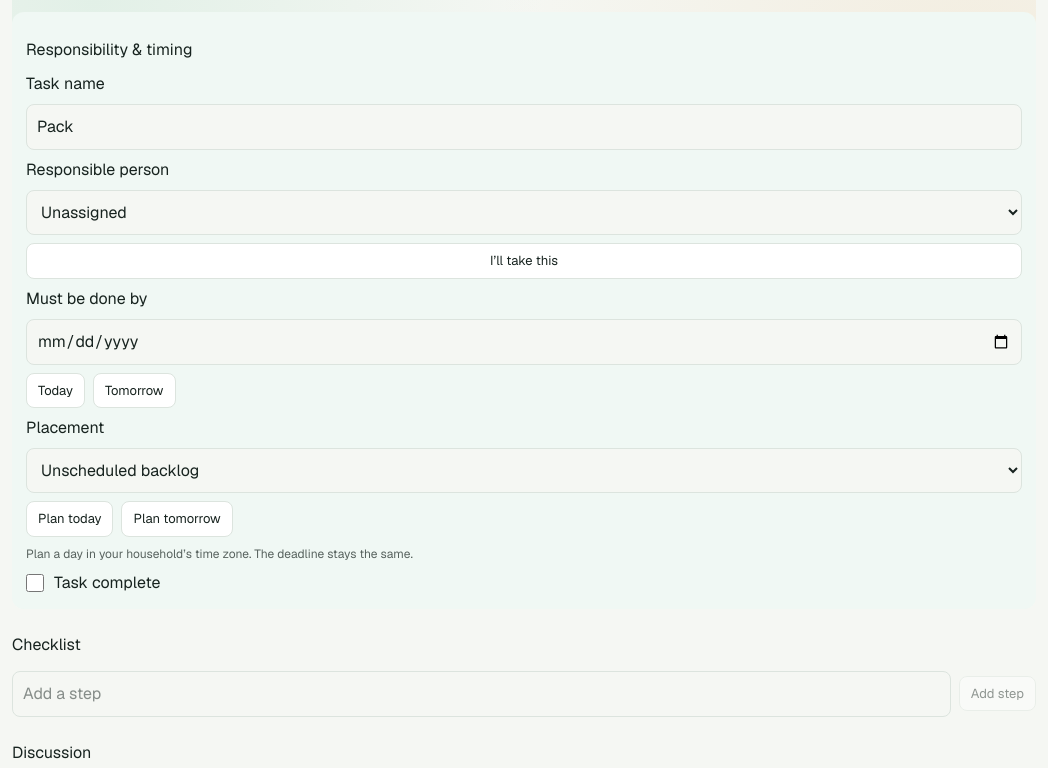
Test: quick task deadlines › saves household Today and Tomorrow without changing placement and retains the date after a failed save
Click the button with aria-label "Set deadline to today" at [55, 390], box 26,372 -> 85,408
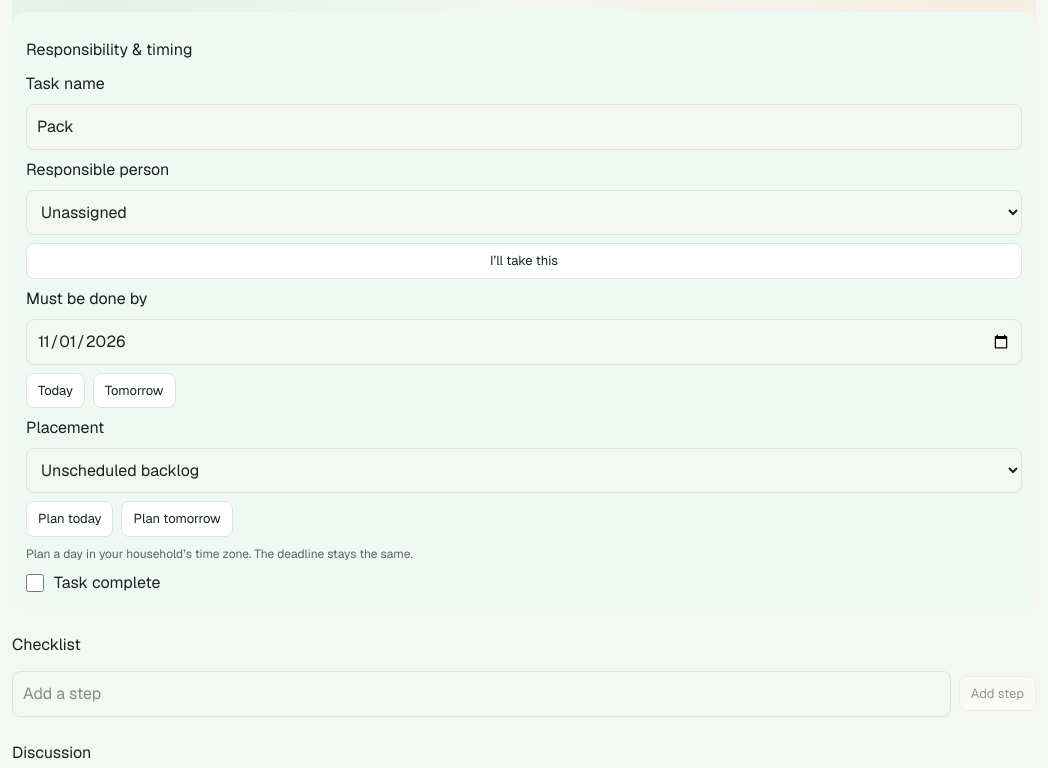
Expected: the date field labelled "Must be done by" holds "2026-11-01", 26,318 -> 1022,364
Click the button with aria-label "Set deadline to tomorrow" at [134, 390], box 93,372 -> 176,408
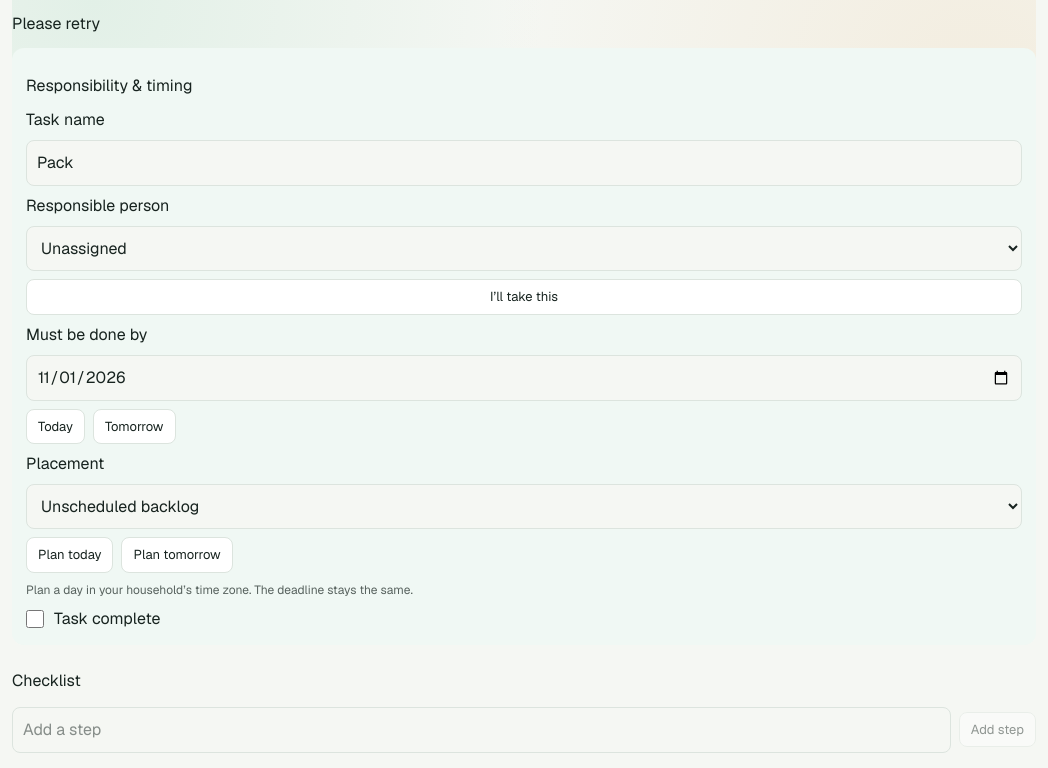
Expected: the date field labelled "Must be done by" holds "2026-11-01", 26,354 -> 1022,400
Expected: the message "Please retry" is shown, 12,13 -> 100,34
Click the button with aria-label "Set deadline to tomorrow" at [134, 426], box 93,408 -> 176,444
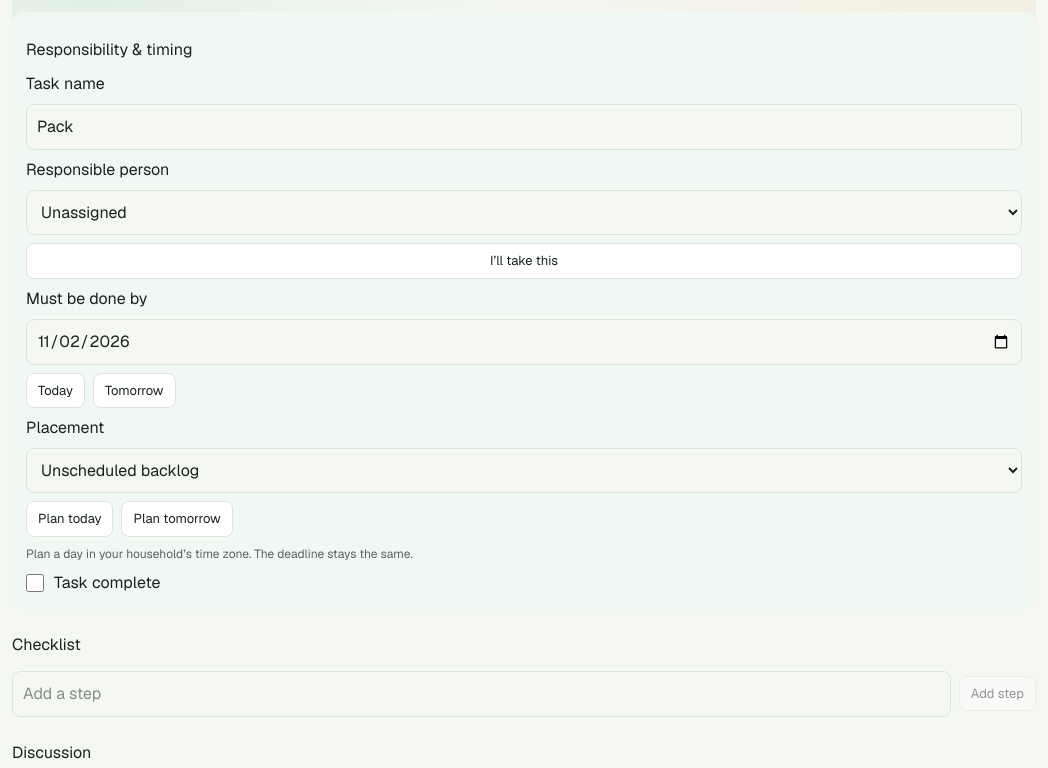
Expected: the date field labelled "Must be done by" holds "2026-11-02", 26,318 -> 1022,364
